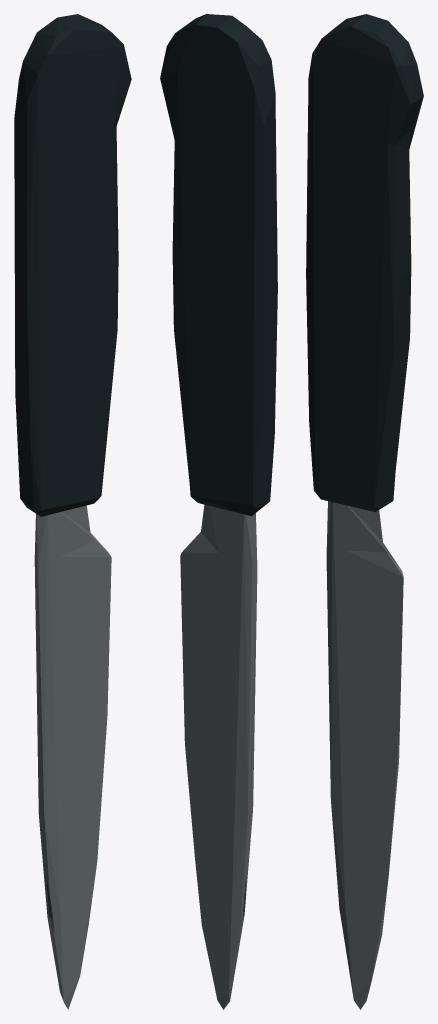
File: Knife09.fbx
3 renders of one model, left to right at view 1: azimuth 30°, elevation 25°; view 2: azimuth 150°, elevation 25°; view 3: azimuth 330°, elevation 25°, orthographic.
Parts seen in each view (by area): view 1: Knife09LowPoly; view 2: Knife09LowPoly; view 3: Knife09LowPoly.
Boxes of the visible parts, x1,y1,x2,y2 form: Knife09LowPoly: (14,14,131,1009); Knife09LowPoly: (160,14,277,1009); Knife09LowPoly: (306,14,423,1009).
Size of the model in its own units: 1.95 by 17.63 by 0.5835.
